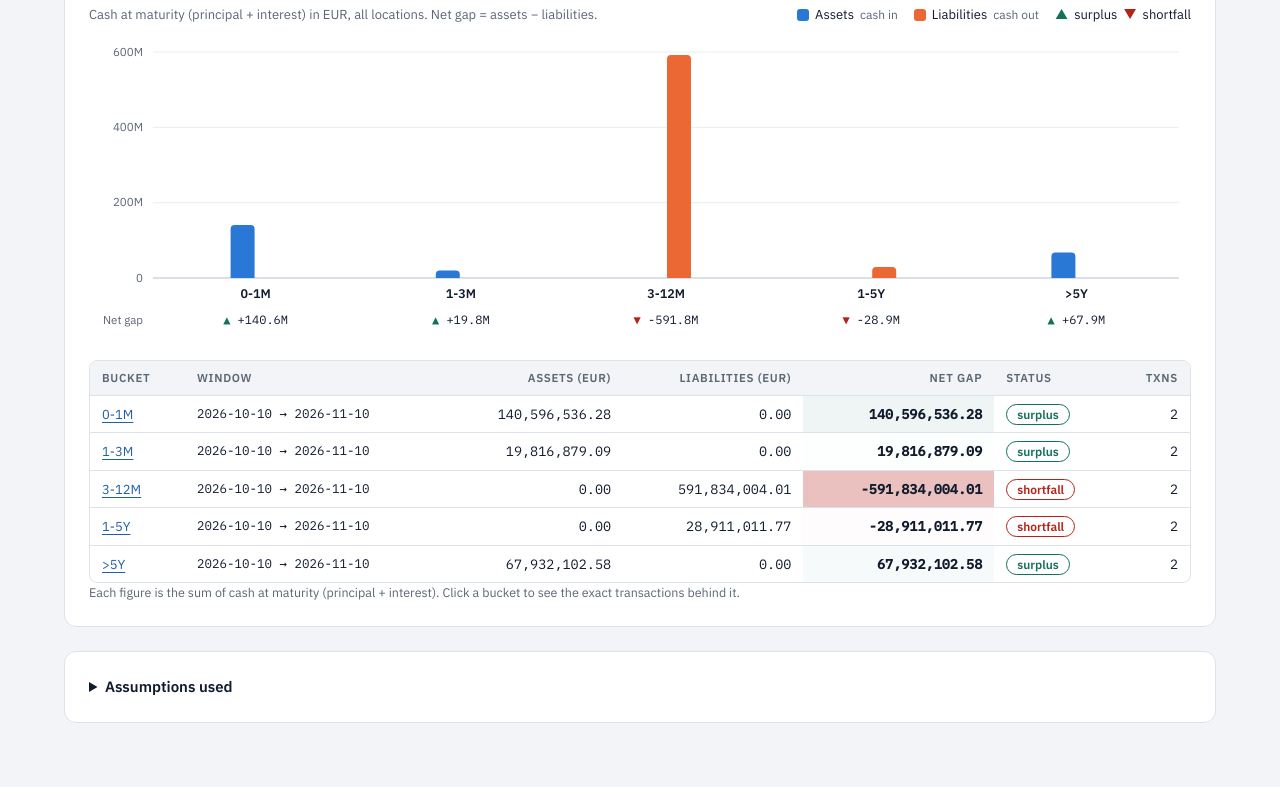
Scenario: opens the drill-down for a bucket and then the step-by-step explanation
(page scrolled)
Click the button named "Show 1-3M transactions": (118, 452) [102,442,133,462]
(page scrolled)
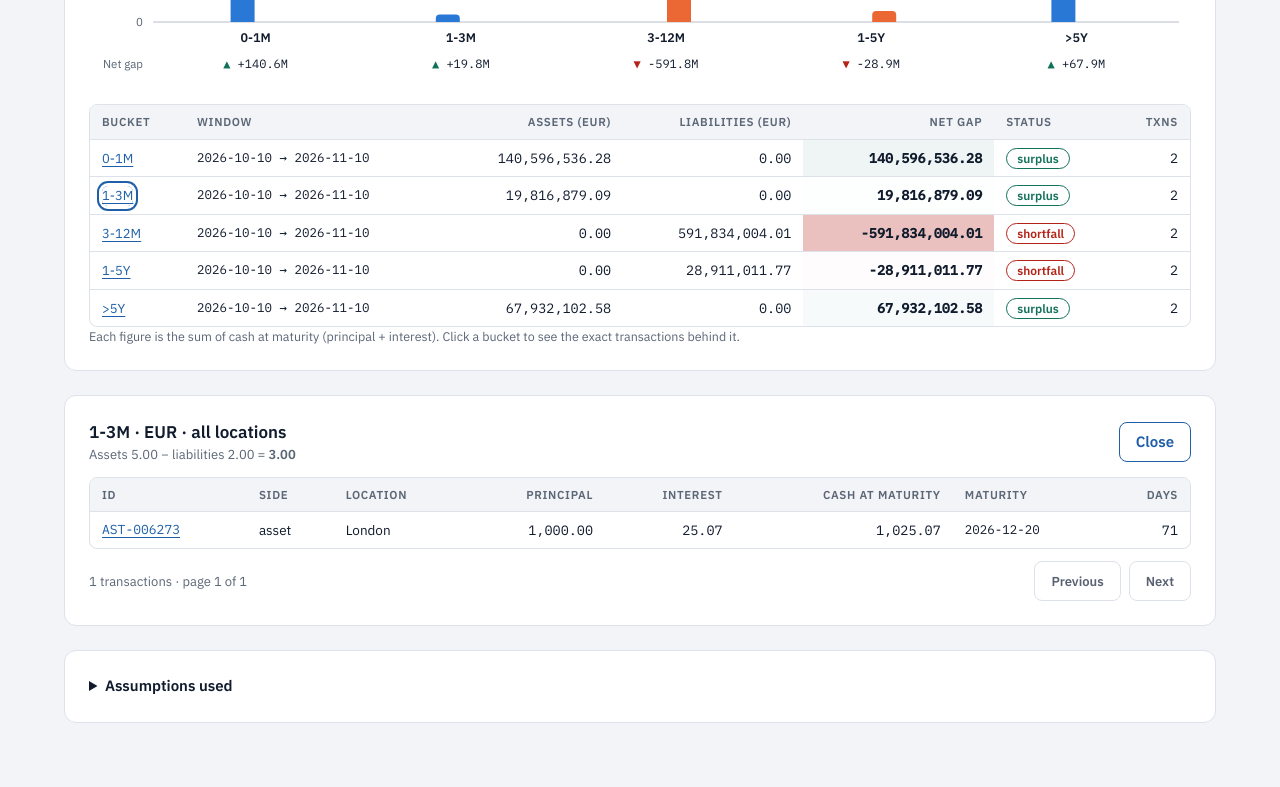
Click the button "AST-006273": (141, 530) [102,520,180,540]
(page scrolled)
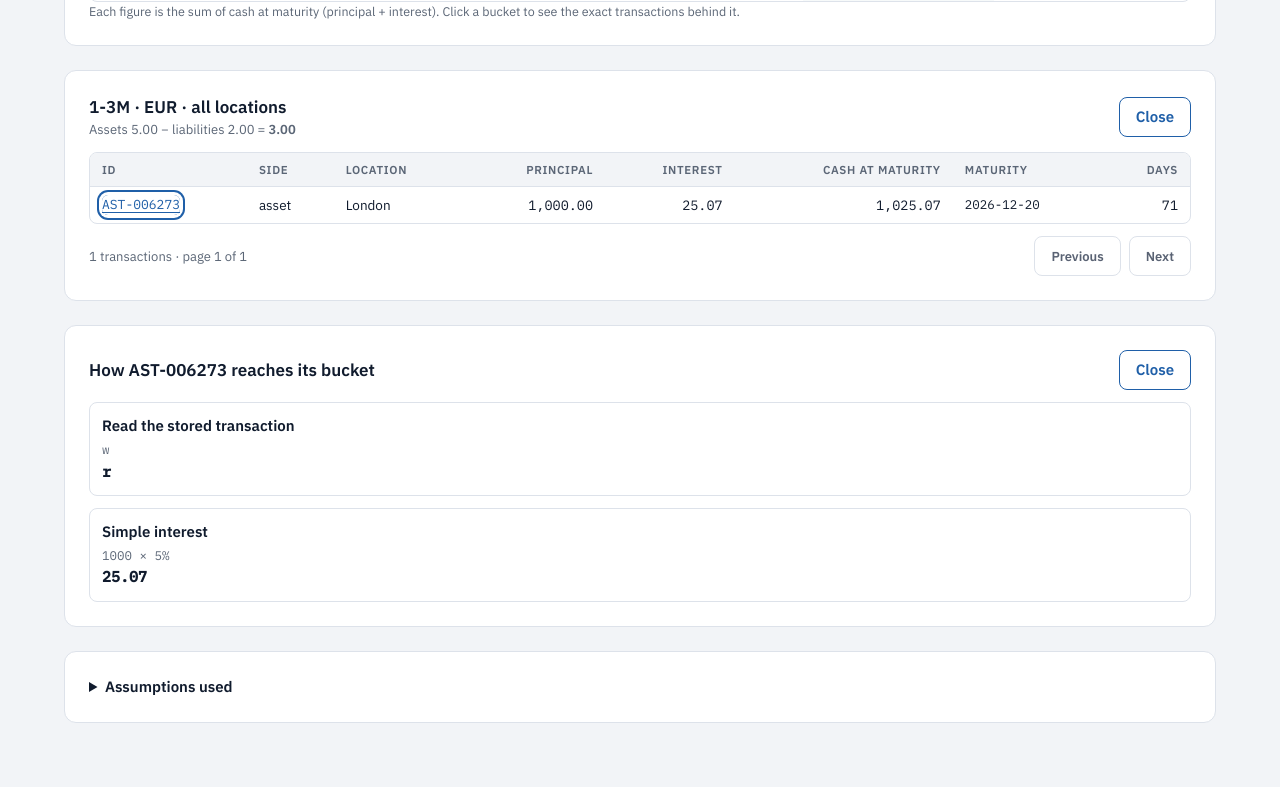
Expected: the text "Simple interest" is shown, [102,522,208,541]
